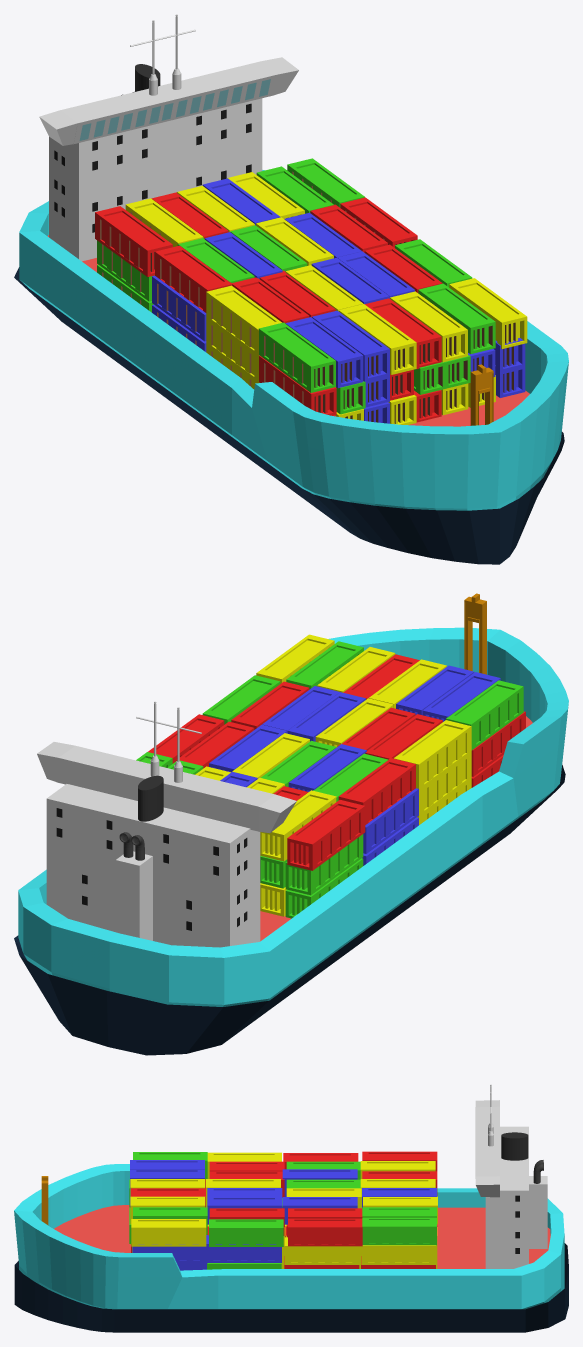
Rendered from container-ship-full.glb.
The picture shows the model from 3 angles, top to bottom: view 1: azimuth 30°, elevation 25°; view 2: azimuth 150°, elevation 25°; view 3: azimuth 270°, elevation 25°; orthographic projection. The views are drawn at different scales.
Parts seen in each view (by area): view 1: body, Cube, body.001, crate.067, crate.035, crate.032, crate.059, crate.068, crate.085, crate.084, crate.076, crate.086 (+38 smaller); view 2: body, Cube, body.001, crate.035, crate.032, crate.067, crate.059, crate.088, crate.013, crate.029, crate.068, crate.085 (+27 smaller); view 3: body, body.001, Cube, deck, crate.058, crate.019, crate.068, crate.056, crate.018, crate.017, crate.055, crate.073 (+31 smaller).
Boxes of the visible parts, x1=… form: body: x1=19, y1=170, x2=568, y2=510; Cube: x1=39, y1=57, x2=298, y2=261; body.001: x1=14, y1=267, x2=564, y2=564; crate.067: x1=258, y1=322, x2=335, y2=392; crate.035: x1=95, y1=206, x2=172, y2=276; crate.032: x1=206, y1=285, x2=281, y2=356; crate.059: x1=155, y1=245, x2=232, y2=312; crate.068: x1=449, y1=278, x2=527, y2=348; crate.085: x1=418, y1=283, x2=495, y2=354; crate.084: x1=390, y1=291, x2=467, y2=362; crate.076: x1=338, y1=304, x2=416, y2=374; crate.086: x1=285, y1=317, x2=363, y2=388; body: x1=18, y1=627, x2=568, y2=1006; Cube: x1=37, y1=742, x2=296, y2=947; body.001: x1=14, y1=765, x2=565, y2=1055; crate.035: x1=287, y1=800, x2=365, y2=870; crate.032: x1=394, y1=720, x2=471, y2=790; crate.067: x1=446, y1=680, x2=523, y2=750; crate.059: x1=338, y1=758, x2=415, y2=824; crate.088: x1=260, y1=790, x2=336, y2=861; crate.013: x1=285, y1=834, x2=363, y2=895; crate.029: x1=363, y1=788, x2=418, y2=853; crate.068: x1=256, y1=634, x2=334, y2=683; crate.085: x1=286, y1=641, x2=363, y2=689; body: x1=14, y1=1164, x2=564, y2=1309; body.001: x1=14, y1=1243, x2=568, y2=1332; Cube: x1=475, y1=1100, x2=547, y2=1268; deck: x1=54, y1=1205, x2=550, y2=1268; crate.058: x1=288, y1=1218, x2=362, y2=1246; crate.019: x1=362, y1=1217, x2=436, y2=1245; crate.068: x1=131, y1=1219, x2=206, y2=1246; crate.056: x1=209, y1=1219, x2=283, y2=1246; crate.018: x1=361, y1=1245, x2=436, y2=1264; crate.017: x1=284, y1=1237, x2=359, y2=1264; crate.055: x1=207, y1=1235, x2=281, y2=1262; crate.073: x1=282, y1=1197, x2=357, y2=1224.
Bounding box in the file's own units: 1.67 × 1.87 × 4.2.
